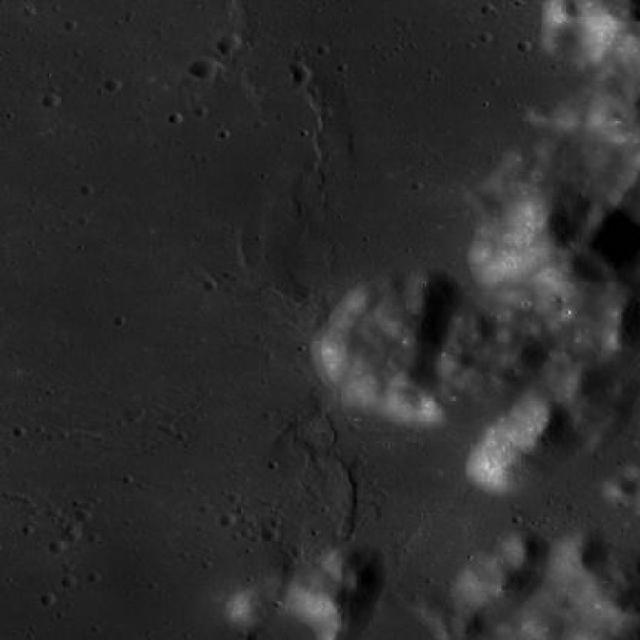crater: (189, 57, 220, 81), (216, 36, 242, 56), (566, 2, 588, 20), (620, 472, 640, 490), (293, 68, 313, 84), (43, 94, 62, 110)
